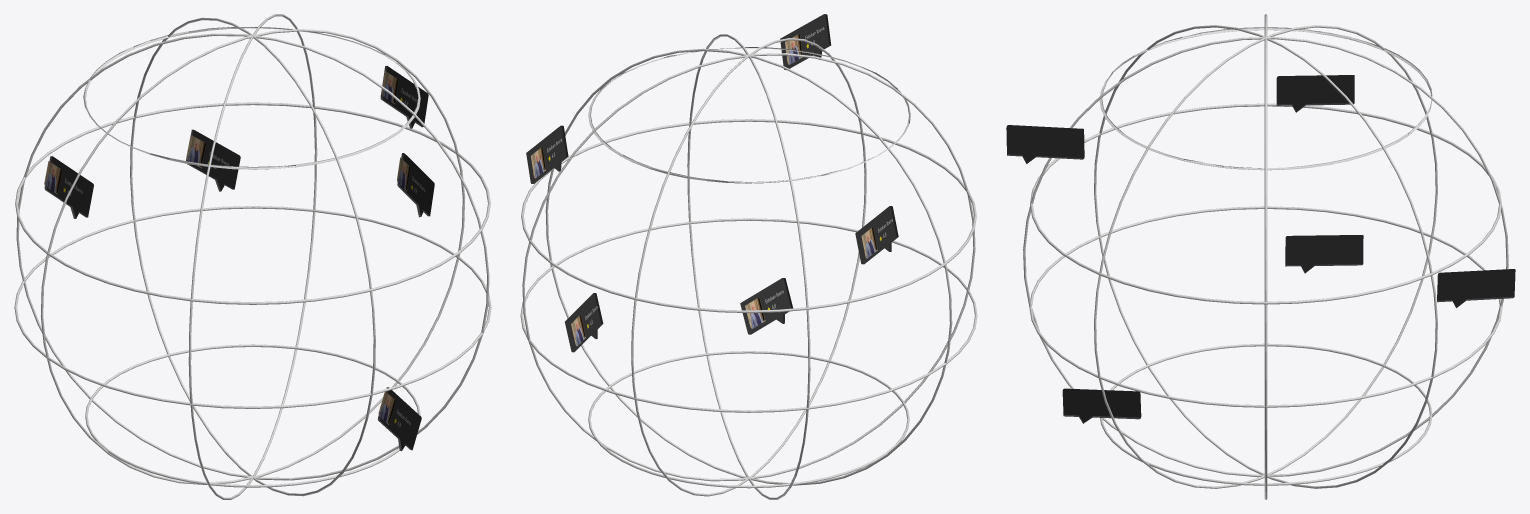
The model's file is ssphere-set.glb.
The picture shows the model from 3 angles, left to right: view 1: azimuth 30°, elevation 25°; view 2: azimuth 150°, elevation 25°; view 3: azimuth 270°, elevation 25°; orthographic projection. The views are drawn at different scales.
Visible parts, largest first — view 1: sphere.004, sphere.002, sphere.001, sphere.006, sphere.003, sphere.005, sphere.007, sphere, Plane.003, Plane.008, Plane.004, Plane.001 (+1 smaller); view 2: sphere.005, sphere.002, sphere.001, sphere.006, sphere.003, sphere.004, sphere.007, Plane.004, sphere, Plane.007, Plane.008, Plane.001 (+1 smaller); view 3: sphere.003, sphere.004, sphere.005, sphere.001, sphere.006, Plane.007, Plane.001, Plane.003, Plane.008, sphere, Plane.004, sphere.007 (+1 smaller).
Boxes of the visible parts, x1,y1,x2,y2 form: sphere.004: (16,33,489,480); sphere.002: (40,29,465,484); sphere.001: (15,102,490,304); sphere.006: (14,206,491,408); sphere.003: (130,17,375,496); sphere.005: (188,14,317,499); sphere.007: (85,344,420,487); sphere: (83,27,420,169); Plane.003: (186,129,240,191); Plane.008: (44,156,93,218); Plane.004: (378,387,421,451); Plane.001: (380,66,428,128); sphere.005: (522,53,975,481); sphere.002: (545,48,952,485); sphere.001: (521,119,976,312); sphere.006: (520,218,977,412); sphere.003: (631,38,866,496); sphere.004: (687,34,810,499); sphere.007: (588,351,909,488); Plane.004: (740,278,792,334); sphere: (588,47,910,183); Plane.007: (780,14,831,70); Plane.008: (855,206,898,264); Plane.001: (526,125,568,183); sphere.003: (1023,36,1508,477); sphere.004: (1094,25,1437,488); sphere.005: (1094,25,1437,488); sphere.001: (1030,103,1501,304); sphere.006: (1029,206,1502,407); Plane.007: (1006,125,1084,163); Plane.001: (1285,235,1363,273); Plane.003: (1437,269,1515,307); Plane.008: (1276,75,1354,112); sphere: (1099,27,1432,170); Plane.004: (1062,388,1141,423); sphere.007: (1100,343,1432,485).
Bounding box in the file's own units: 2.01 × 2.01 × 2.11.
10 materials, 5 textured.
